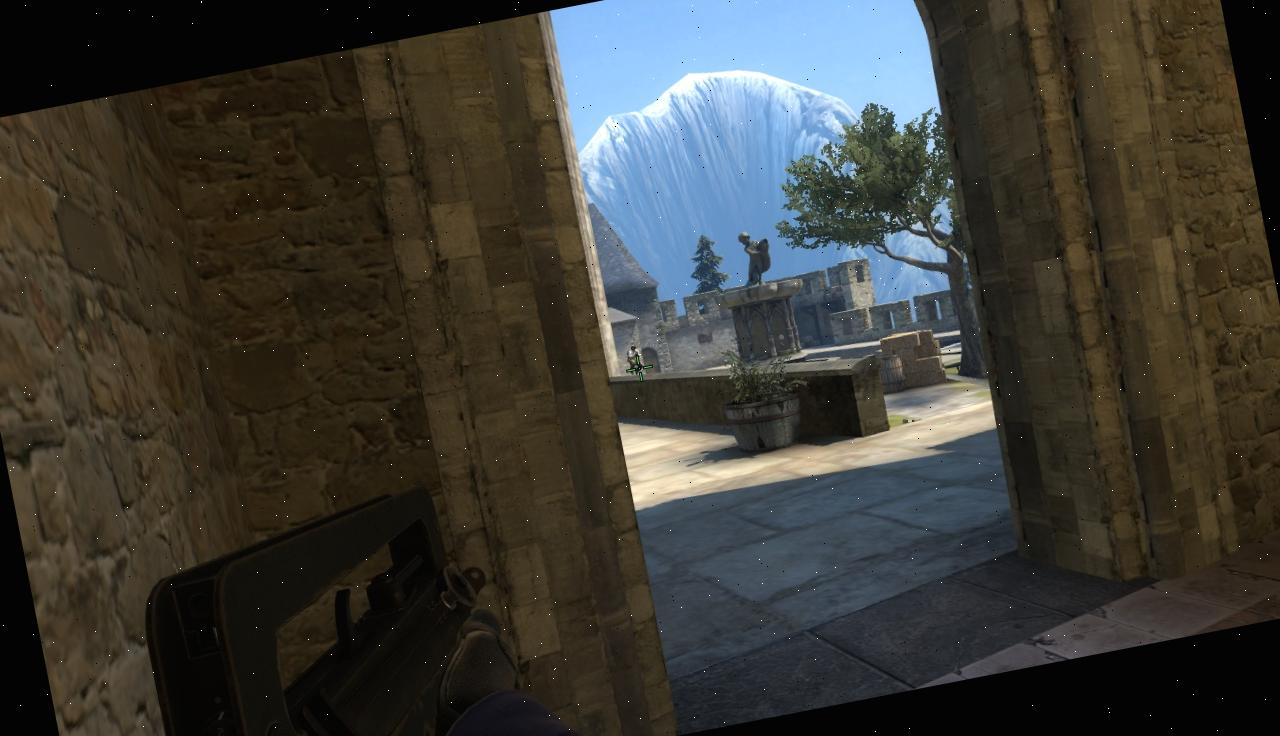rifle: (26, 481, 522, 736)
tt: (625, 344, 644, 375)
tthead: (630, 344, 636, 352)
